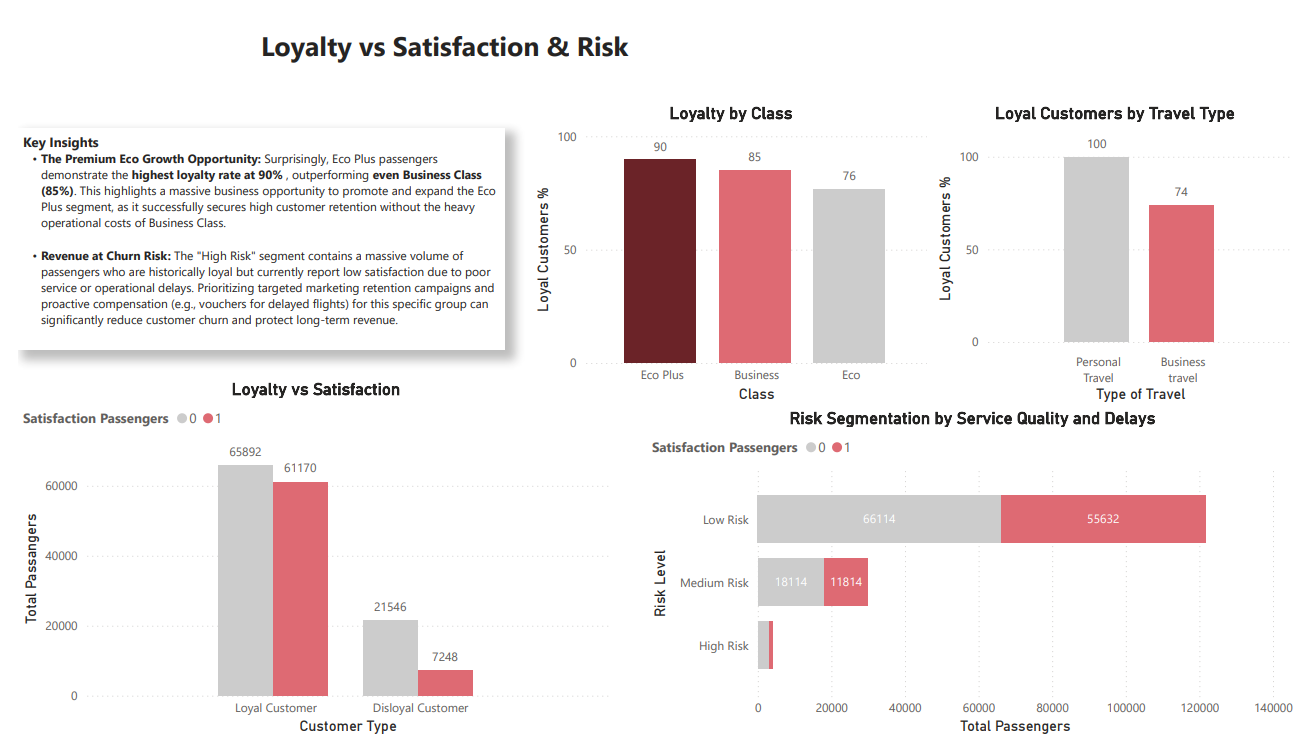

What the dashboard file says about the page in this screenshot:
{"tool":"powerbi","page":{"name":"Strona 3","canvas":[1280,720],"ordinal":2},"visuals":[{"type":"clusteredColumnChart","title":"Loyalty vs Satisfaction","fields":{"Category":["test.Customer Type"],"Y":["test.Total Passangers"],"Series":["test.Satisfaction_pasangers"]},"box":[0,360,595.7,360],"z":0},{"type":"columnChart","title":"Loyal Customers by Travel Type","fields":{"Category":["test.Type of Travel"],"Y":["test.Loyal Customers %"]},"box":[914,84,366,304],"z":1000},{"type":"columnChart","title":"Loyalty by Class","fields":{"Category":["test.Class"],"Y":["test.Loyal Customers %"]},"box":[512,84,402,304],"z":2000},{"type":"barChart","title":"Risk Segmentation by Service Quality and Delays","fields":{"Category":["test.Risk Level"],"Y":["test.Total Passangers"],"Series":["test.Satisfaction_pasangers"]},"box":[628.6,388.6,651.4,331.4],"z":3000},{"type":"textbox","box":[0,108.6,487.1,222.9],"z":4000},{"type":"textbox","box":[238.3,3.3,411.7,53.3],"z":5000}]}

Visuals, with their boxes in screenshot pixels (x1, y1, x2, y2), scaled from the page's 1280x720 canvas onto the 1316x756 screenshot:
"Loyalty vs Satisfaction" clusteredColumnChart: bbox=(0, 378, 612, 755)
"Loyal Customers by Travel Type" columnChart: bbox=(940, 88, 1315, 407)
"Loyalty by Class" columnChart: bbox=(526, 88, 940, 407)
"Risk Segmentation by Service Quality and Delays" barChart: bbox=(646, 408, 1315, 755)
textbox: bbox=(0, 114, 501, 348)
textbox: bbox=(245, 3, 668, 59)
